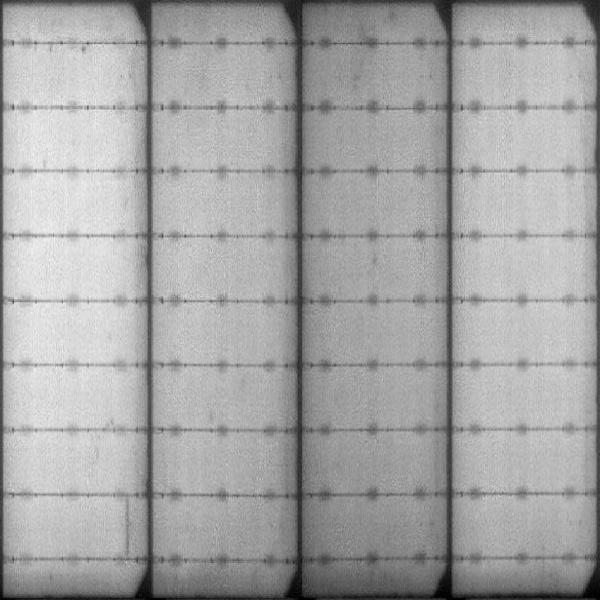scratch: (123, 497, 136, 559)
